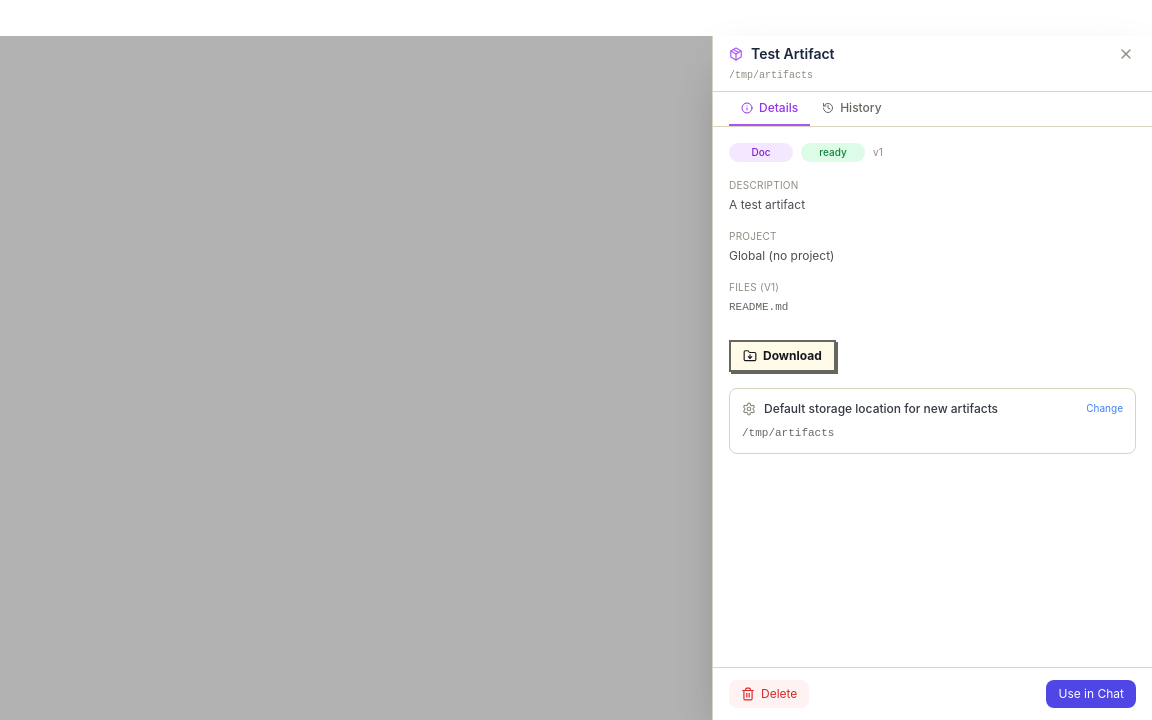
ArtifactPanel › shows version list in History tab
Expected: the heading "Test Artifact" is shown, x1=751 y1=44 x2=834 y2=64
What coordinates should you click on to do the following:
click the button "History"
I would click on:
 (852, 109)
Its box is x1=810 y1=92 x2=894 y2=126.
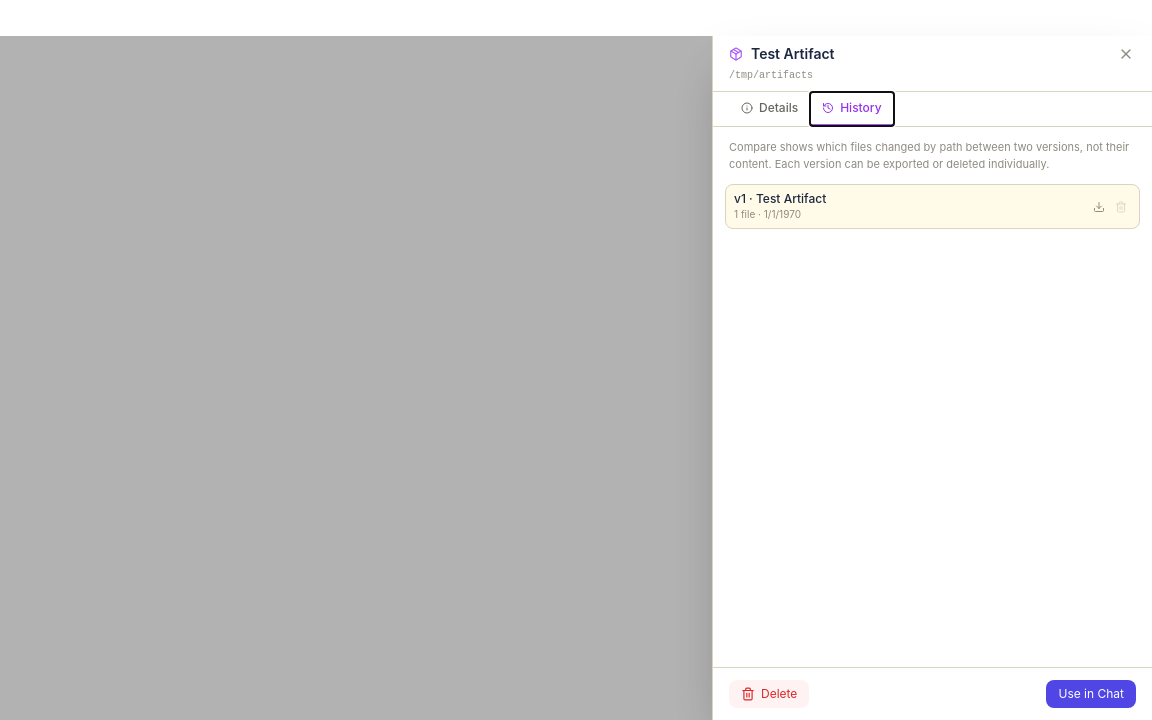
Result: the text "v1 · Test Artifact" is shown at x1=734 y1=191 x2=826 y2=206
